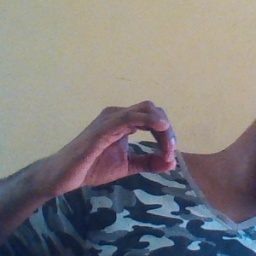O: (62, 96, 180, 193)
